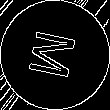M_E: (25, 27, 85, 83)
